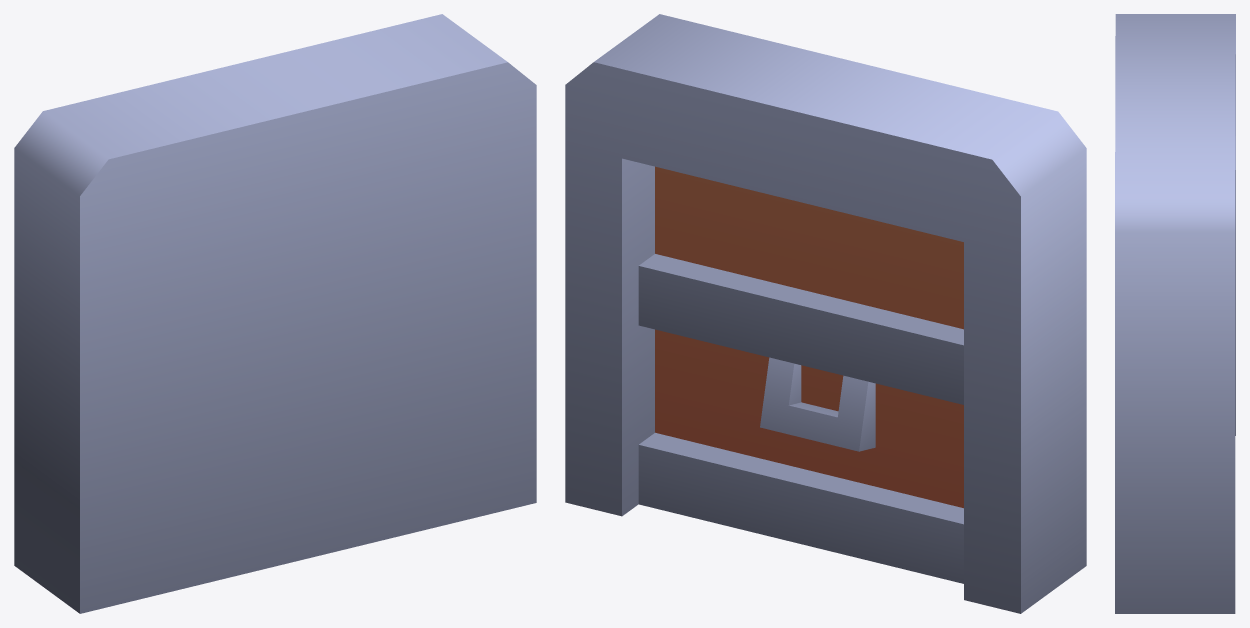
Rendered from door_lev5.glb.
3 views of the same model, side by side, from view 1: azimuth 30°, elevation 25°; view 2: azimuth 150°, elevation 25°; view 3: azimuth 270°, elevation 25° (orthographic). The views are drawn at different scales.
Visible parts, largest first — view 1: door_lev5; view 2: door_lev5; view 3: door_lev5.
Part boxes in pixels (x1,y1,x2,y2): door_lev5: (14,14,536,613); door_lev5: (565,14,1086,613); door_lev5: (1115,14,1235,613).
Size of the model in its own units: 5.92 by 5.55 by 1.49.
1 material, 1 textured.
